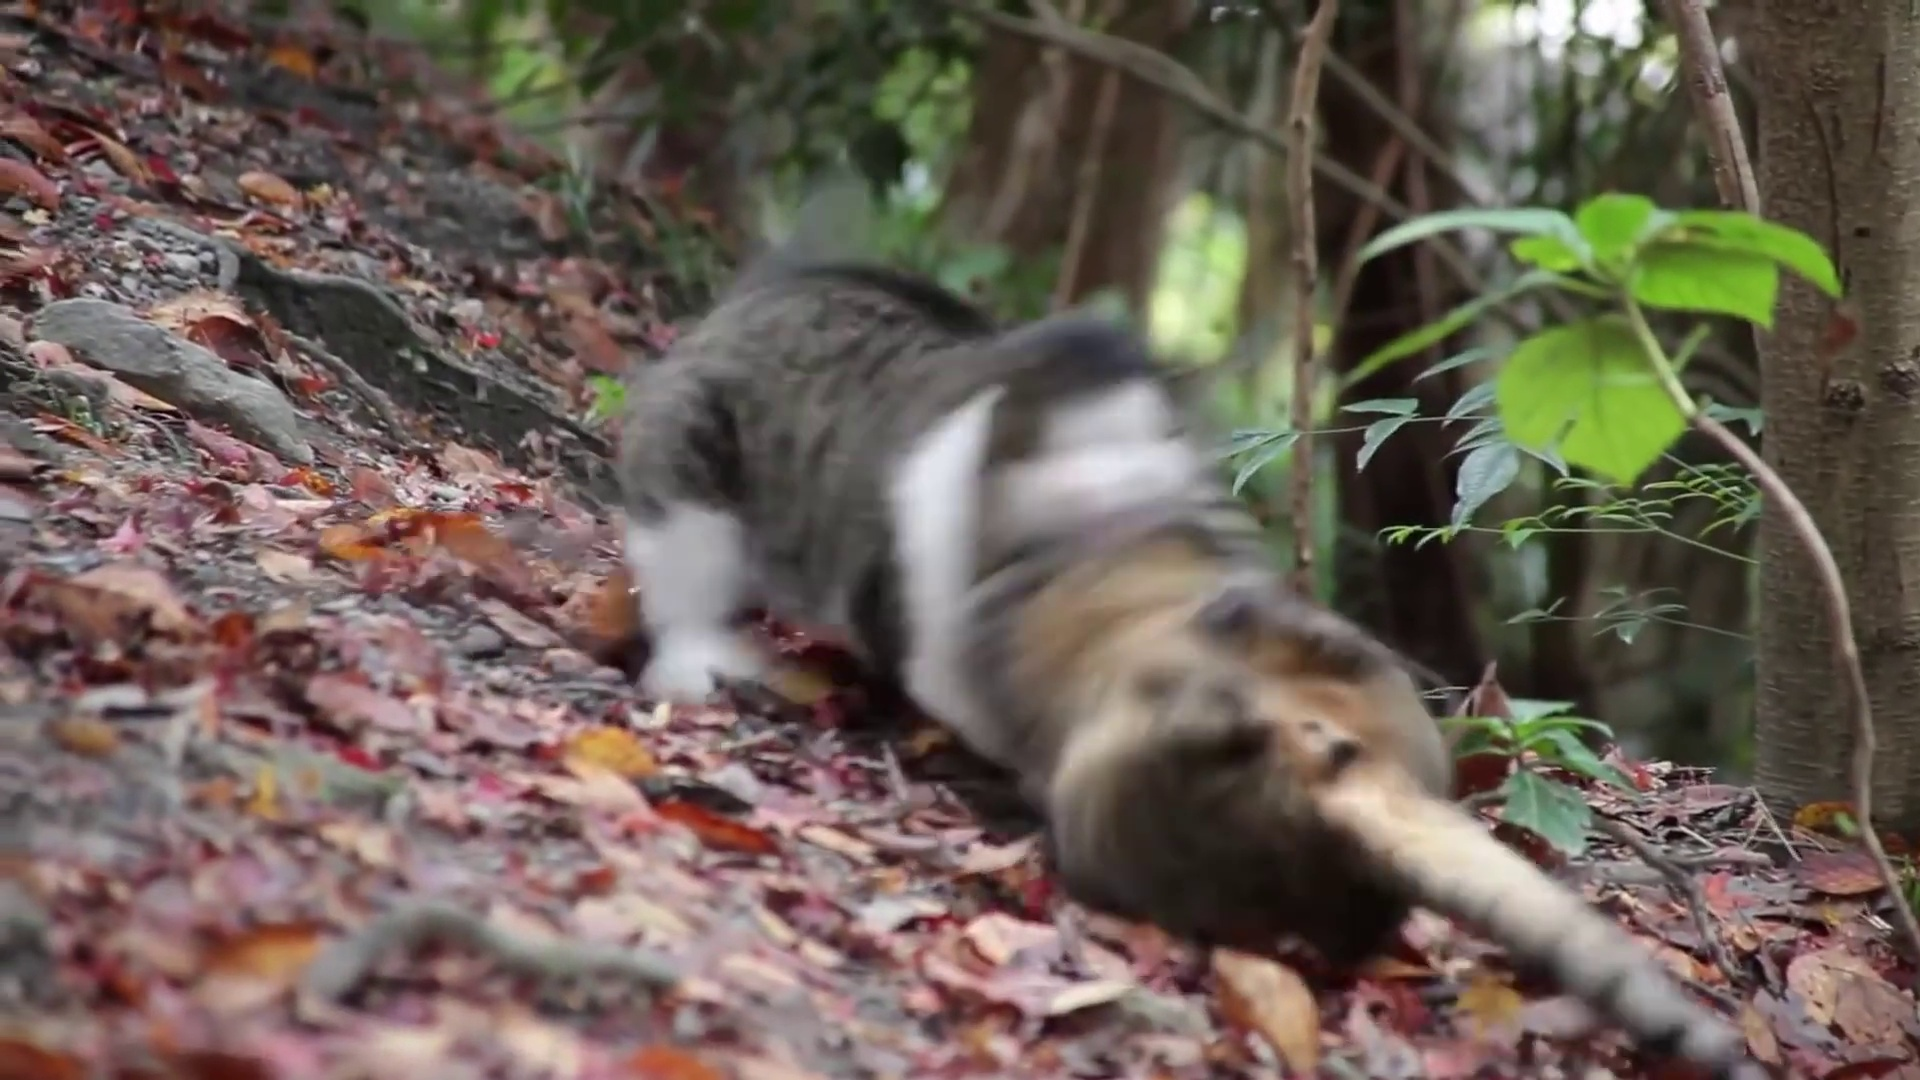black-white: (617, 264, 1191, 698)
pure black: (960, 520, 1739, 1064)
